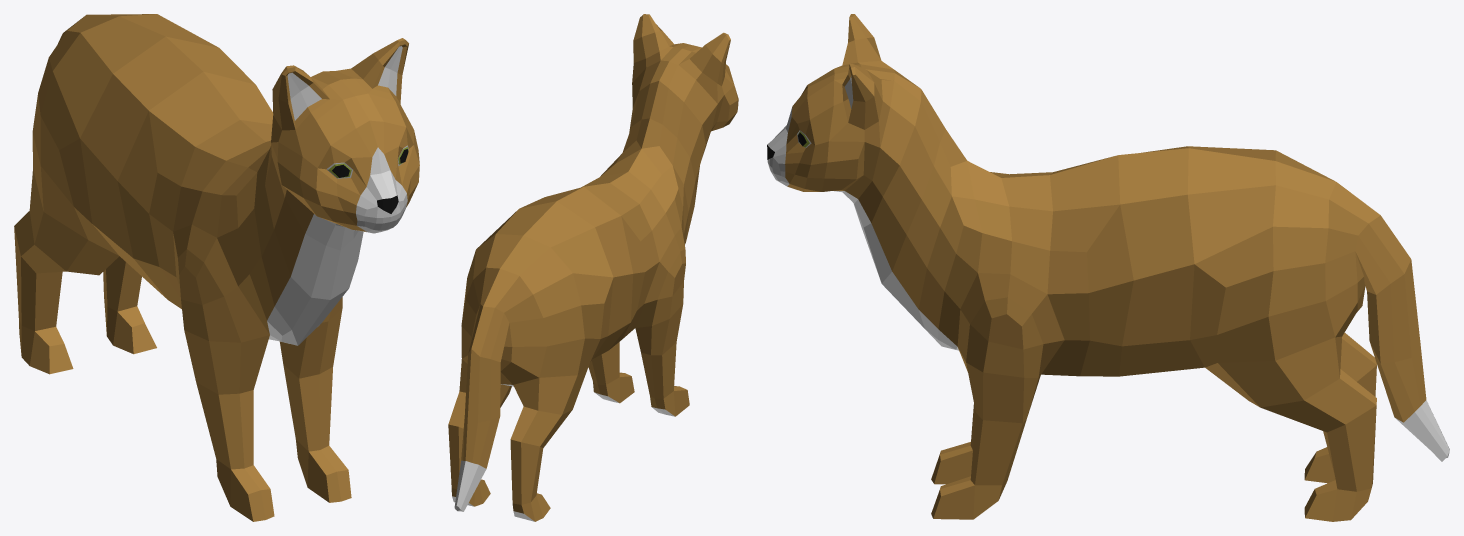
Rendered from cat.glb.
The picture shows the model from 3 angles, left to right: view 1: azimuth 30°, elevation 25°; view 2: azimuth 150°, elevation 25°; view 3: azimuth 270°, elevation 25°; orthographic projection. The views are drawn at different scales.
Visible parts, largest first — view 1: cat; view 2: cat; view 3: cat.
Part boxes in pixels (<box>): cat: <box>14,14,419,521</box>; cat: <box>448,14,738,521</box>; cat: <box>767,14,1449,521</box>.
Size of the model in its own units: 0.1343 by 0.3622 by 0.4913.
